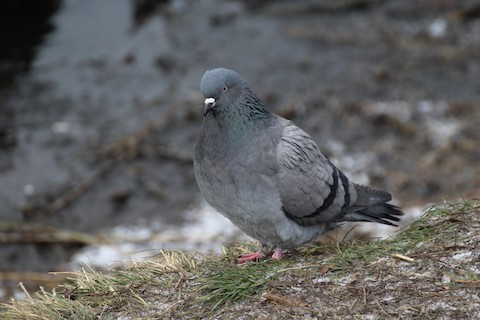pigeon: (185, 66, 410, 268)
